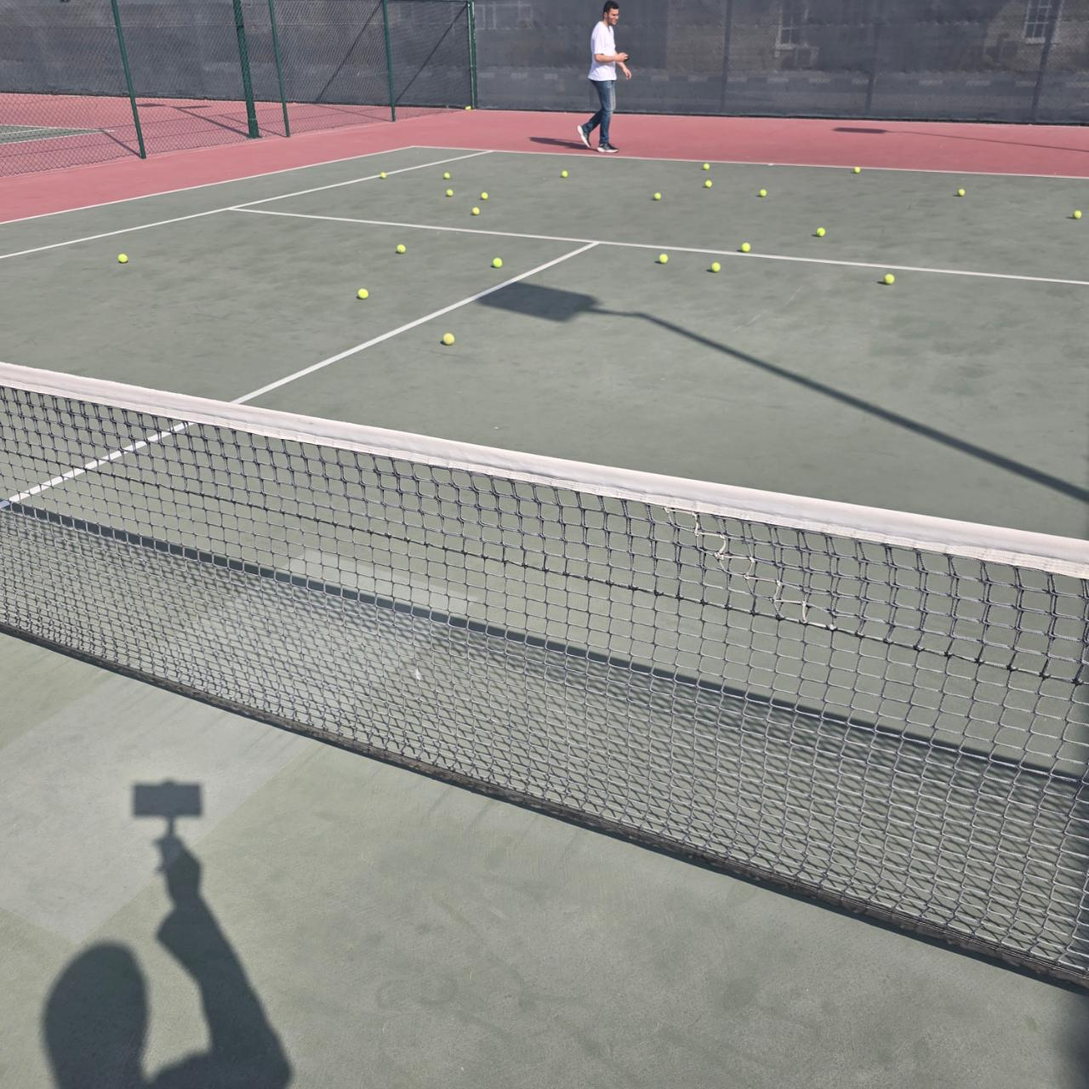tennis-ball: (442, 332, 455, 345), (116, 251, 128, 264), (356, 288, 369, 299), (492, 256, 503, 268), (883, 274, 895, 285), (711, 262, 721, 273), (659, 253, 669, 264), (816, 227, 826, 237), (741, 242, 751, 252), (396, 244, 406, 253), (1072, 210, 1082, 219), (653, 192, 662, 201), (480, 191, 488, 201), (472, 207, 480, 216), (446, 188, 454, 197), (443, 171, 451, 180), (561, 170, 569, 178), (705, 180, 713, 188), (759, 189, 767, 197), (957, 188, 965, 196), (703, 162, 710, 170), (853, 166, 861, 173), (380, 171, 386, 179), (465, 105, 472, 111)
